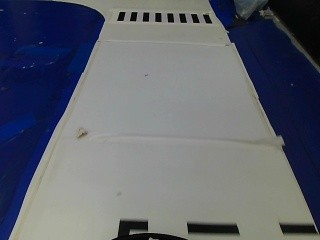crosswalk: (111, 7, 215, 26)
